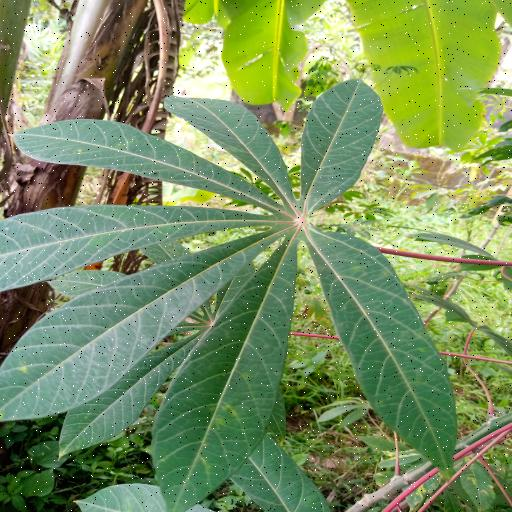Cassava_Healthy: (4, 77, 469, 503)
